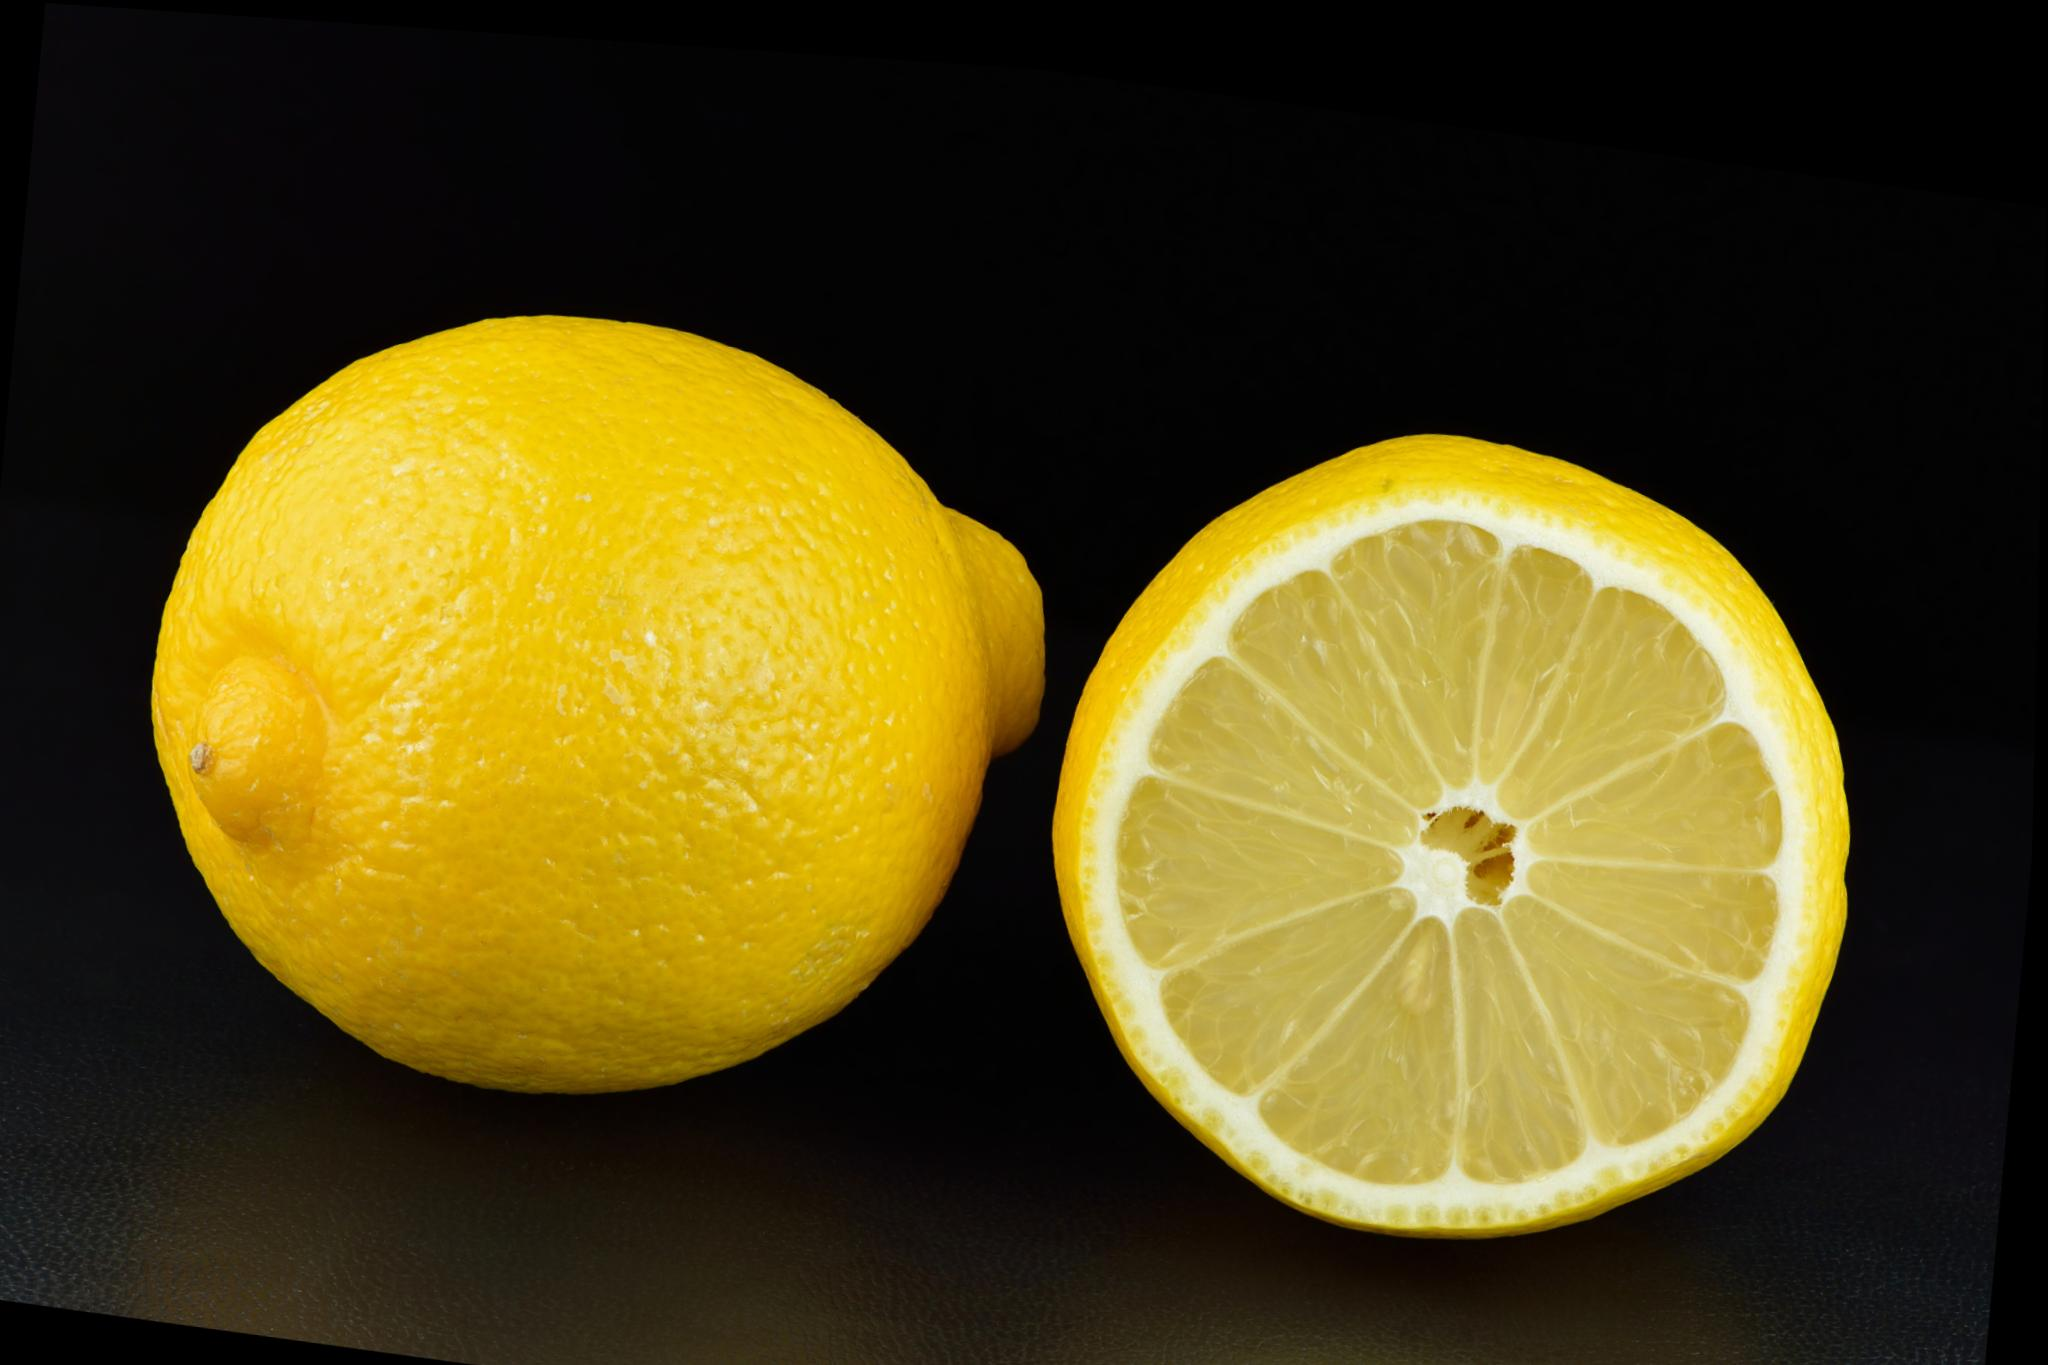organic: (152, 315, 1042, 1088), (1055, 436, 1847, 1229)
